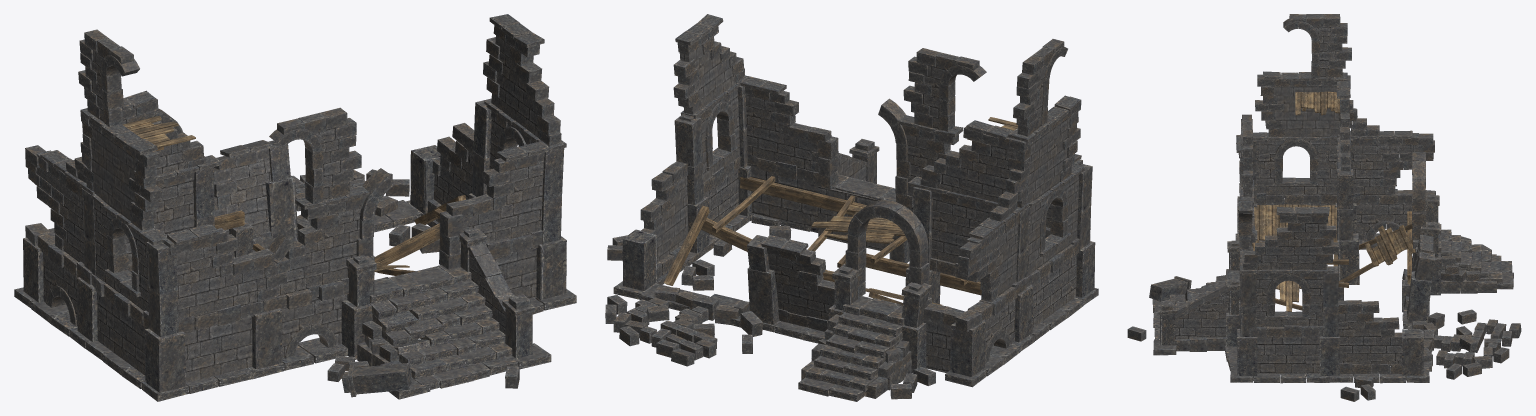
The model's file is House_Ruins_01.fbx.
3 renders of one model, left to right at view 1: azimuth 30°, elevation 25°; view 2: azimuth 150°, elevation 25°; view 3: azimuth 270°, elevation 25°, orthographic. The views are drawn at different scales.
Parts seen in each view (by area): view 1: StoneBricks, StoneWall, Wood, WoodPlanks; view 2: StoneBricks, StoneWall, Wood, WoodPlanks; view 3: StoneBricks, StoneWall, WoodPlanks, Wood.
Boxes of the visible parts, <box> form: StoneBricks: <box>14,14,576,401</box>; StoneWall: <box>28,35,558,382</box>; Wood: <box>156,147,465,275</box>; WoodPlanks: <box>122,115,409,271</box>; StoneBricks: <box>605,14,1098,401</box>; StoneWall: <box>655,45,1079,372</box>; Wood: <box>663,176,981,305</box>; WoodPlanks: <box>811,117,1017,305</box>; StoneBricks: <box>1127,14,1521,401</box>; StoneWall: <box>1175,18,1420,374</box>; WoodPlanks: <box>1253,91,1415,311</box>; Wood: <box>1252,108,1412,365</box>.
Size of what is drawn, in the model's own units: 892 by 578 by 909.
